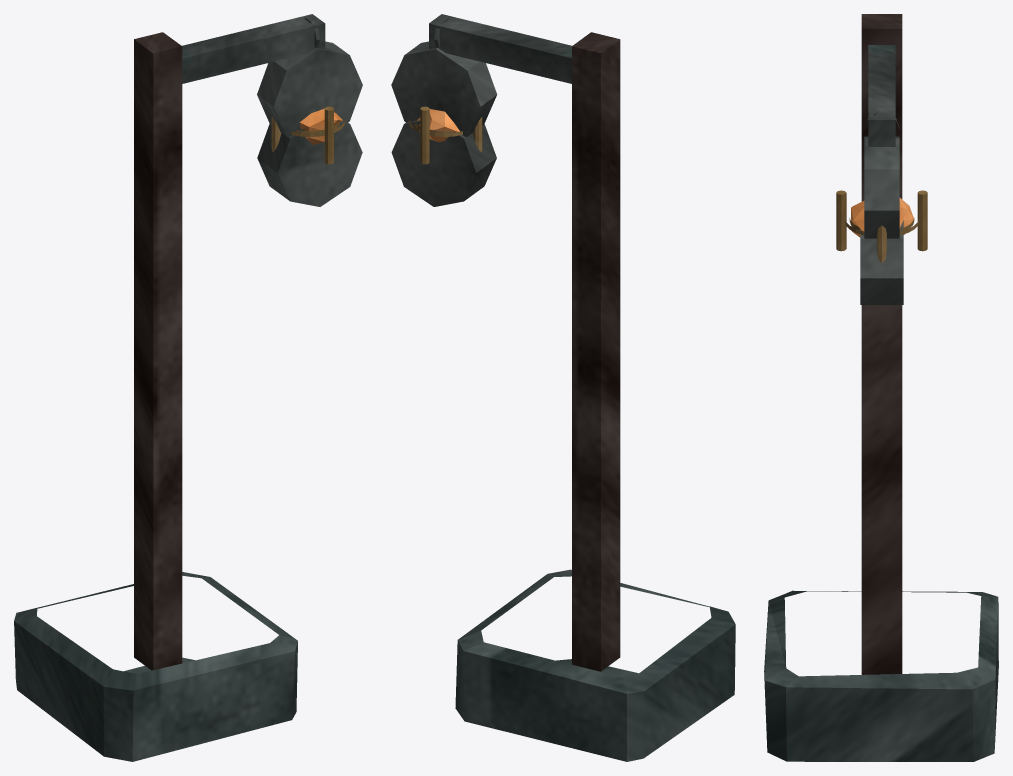
File: 0722_lantern_post_22.glb
3 renders of one model, left to right at view 1: azimuth 30°, elevation 25°; view 2: azimuth 150°, elevation 25°; view 3: azimuth 270°, elevation 25°, orthographic. The views are drawn at different scales.
Visible parts, largest first — view 1: wood_dark, stone_dark, iron, brass, amber; view 2: wood_dark, stone_dark, iron, brass, amber; view 3: stone_dark, wood_dark, iron, brass, amber.
Boxes of the visible parts, x1,y1,x2,y2 form: wood_dark: (134, 32, 182, 670); stone_dark: (14, 572, 297, 761); iron: (182, 14, 362, 206); brass: (271, 106, 345, 164); amber: (299, 108, 342, 144); wood_dark: (572, 32, 620, 671); stone_dark: (455, 569, 735, 761); iron: (391, 14, 571, 206); brass: (408, 106, 482, 164); amber: (417, 109, 459, 142); stone_dark: (764, 590, 998, 761); wood_dark: (861, 14, 902, 674); iron: (860, 45, 903, 304); brass: (836, 190, 927, 262); amber: (851, 197, 913, 237).
Size of the model in its own units: 1.31 by 2.85 by 0.8664.
Materials: 5 (5 with a texture image).
